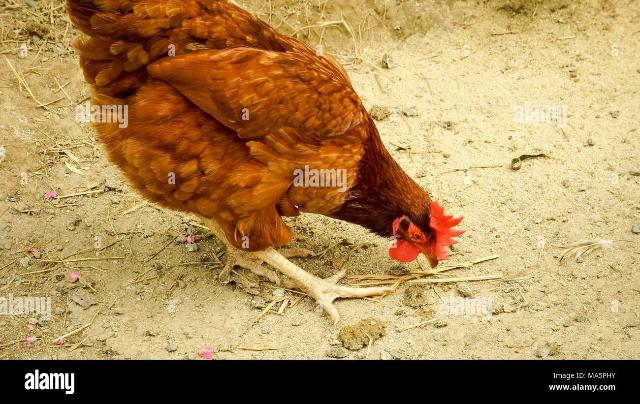Chicken: (64, 0, 467, 323)
